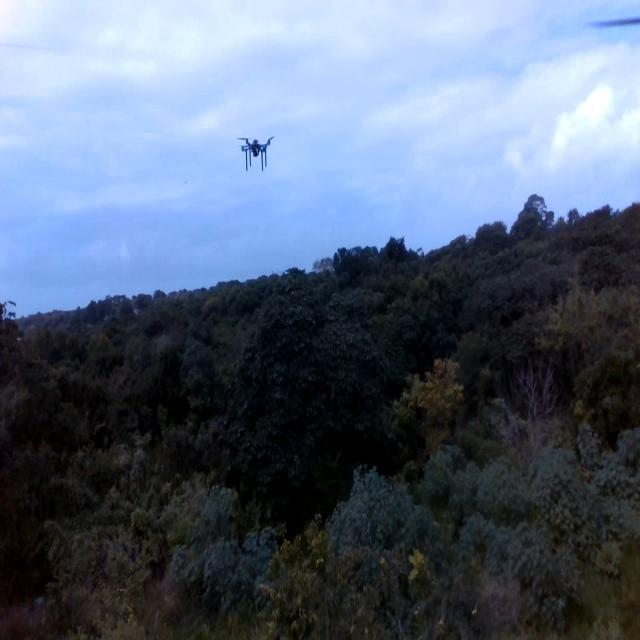-uav-: (236, 124, 278, 192)
